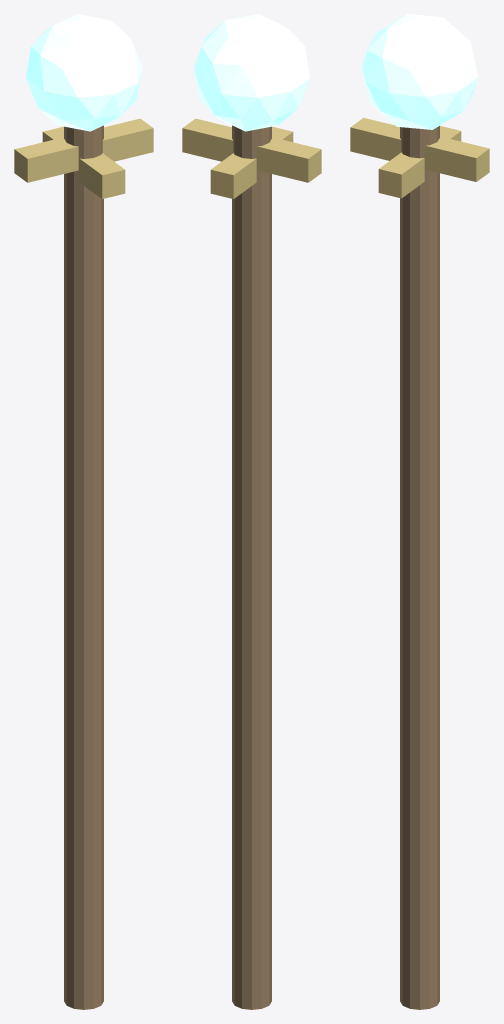
Rendered from wpn_staff.glb.
The picture shows the model from 3 angles, left to right: view 1: azimuth 30°, elevation 25°; view 2: azimuth 150°, elevation 25°; view 3: azimuth 330°, elevation 25°; orthographic projection.
Visible parts, largest first — view 1: wpn_staff; view 2: wpn_staff; view 3: wpn_staff.
Boxes of the visible parts, x1,y1,x2,y2 form: wpn_staff: (14, 14, 153, 1009); wpn_staff: (182, 14, 321, 1009); wpn_staff: (350, 14, 489, 1009).
Size of the model in its own units: 0.22 by 1.64 by 0.18.
